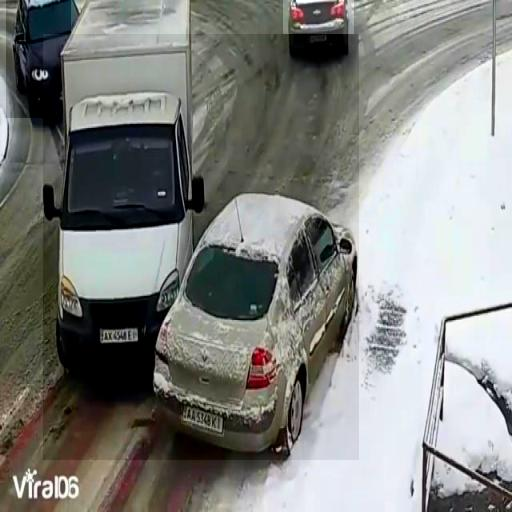小汽车: (6, 0, 71, 118), (283, 0, 354, 65)
小汽车撞小汽车: (43, 34, 359, 460)
